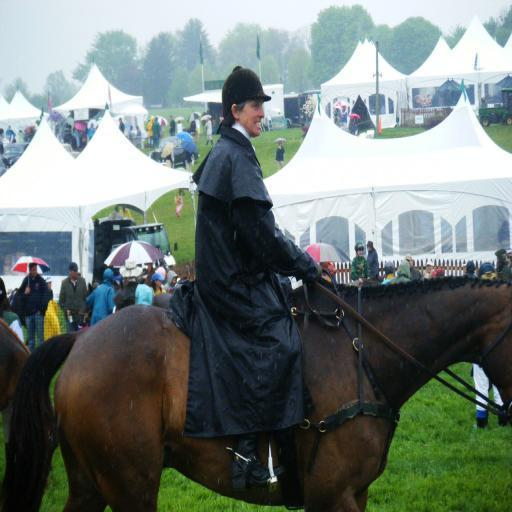horse: (0, 272, 512, 512), (0, 320, 46, 494)
